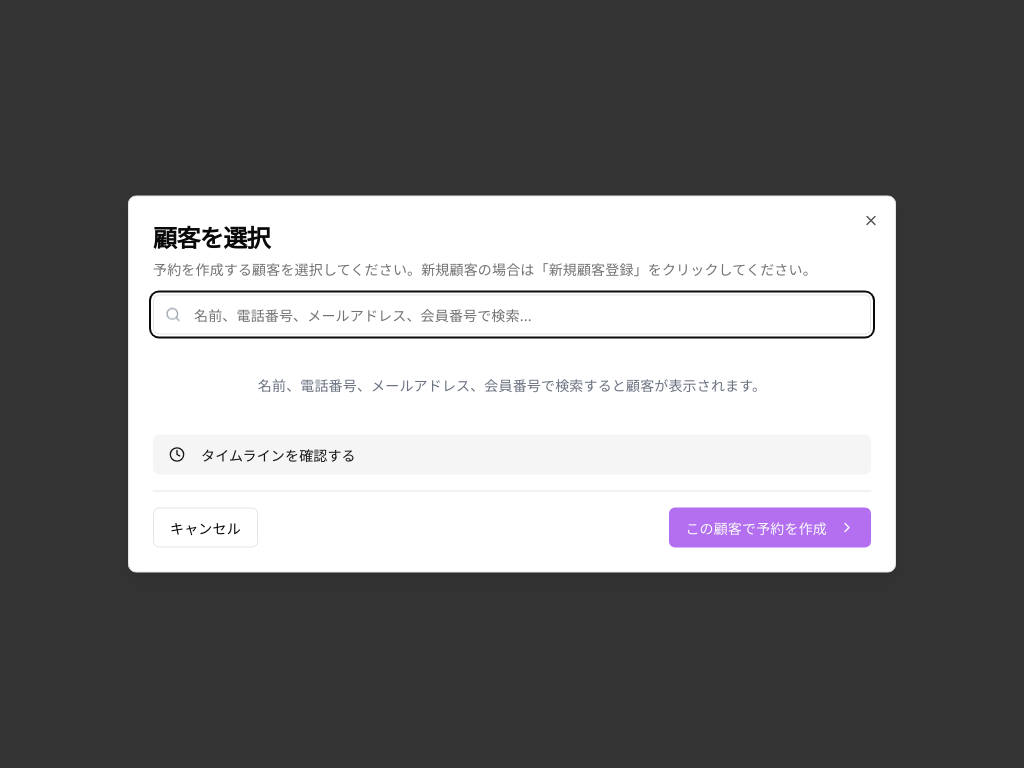
Scenario: CustomerSelectionDialog › ignores a late empty response from an older phone search
The width and height of the screenshot is (1024, 768).
Type "090-1111-1111" into the field with placeholder "名前、電話番号、メールアドレス、会員番号で検索...".
click(512, 314); type("090-1111-1111")  # box [153, 294, 871, 334]
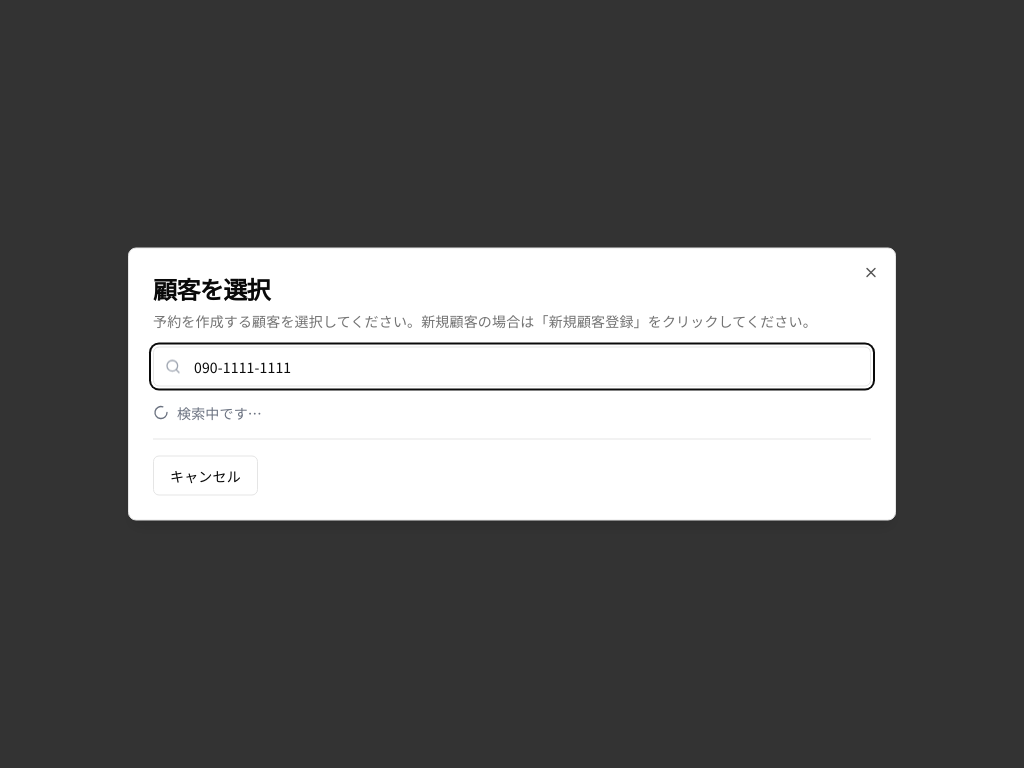
Replace the text in the field with placeholder "名前、電話番号、メールアドレス、会員番号で検索..." with "090-2222-2222" at (512, 366), box [153, 346, 871, 386]
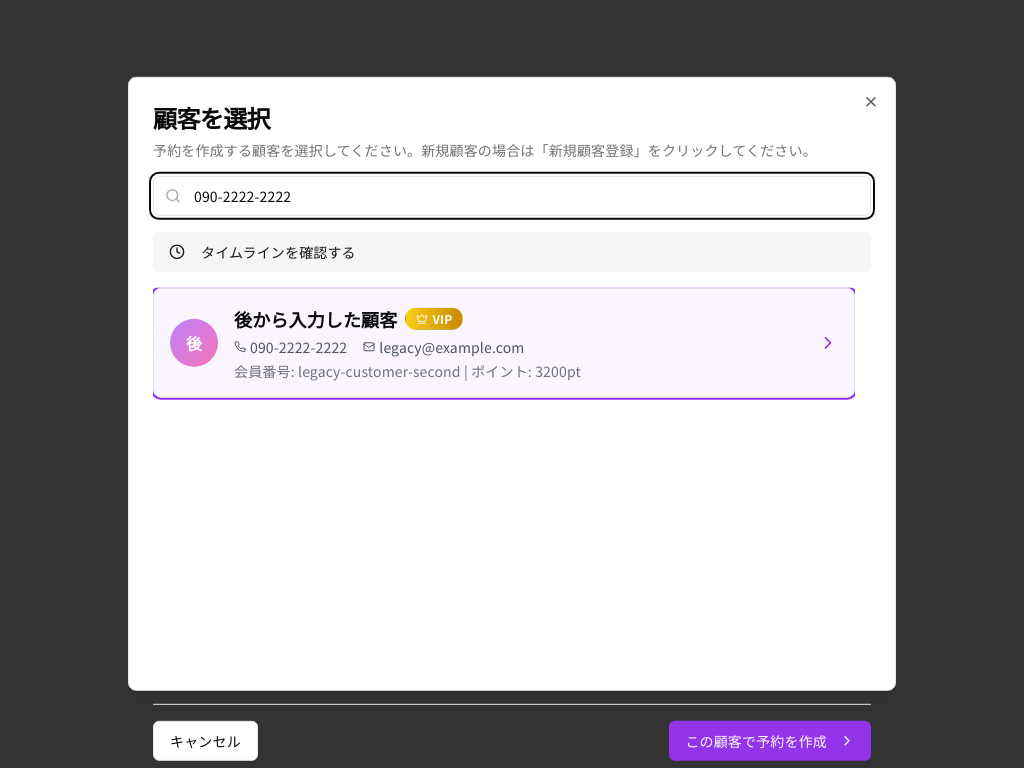
Now the heading "後から入力した顧客" is shown, box [234, 305, 398, 333]
